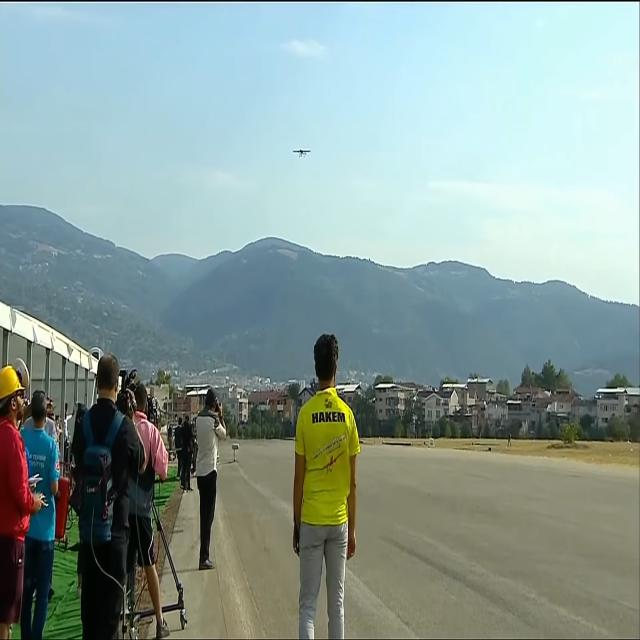iha: (291, 146, 311, 160)
